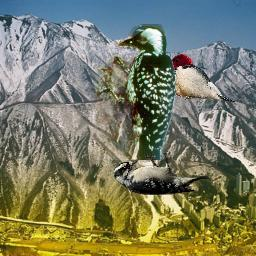Woodpecker: (95, 24, 175, 160), (114, 153, 209, 195), (161, 54, 236, 102)
